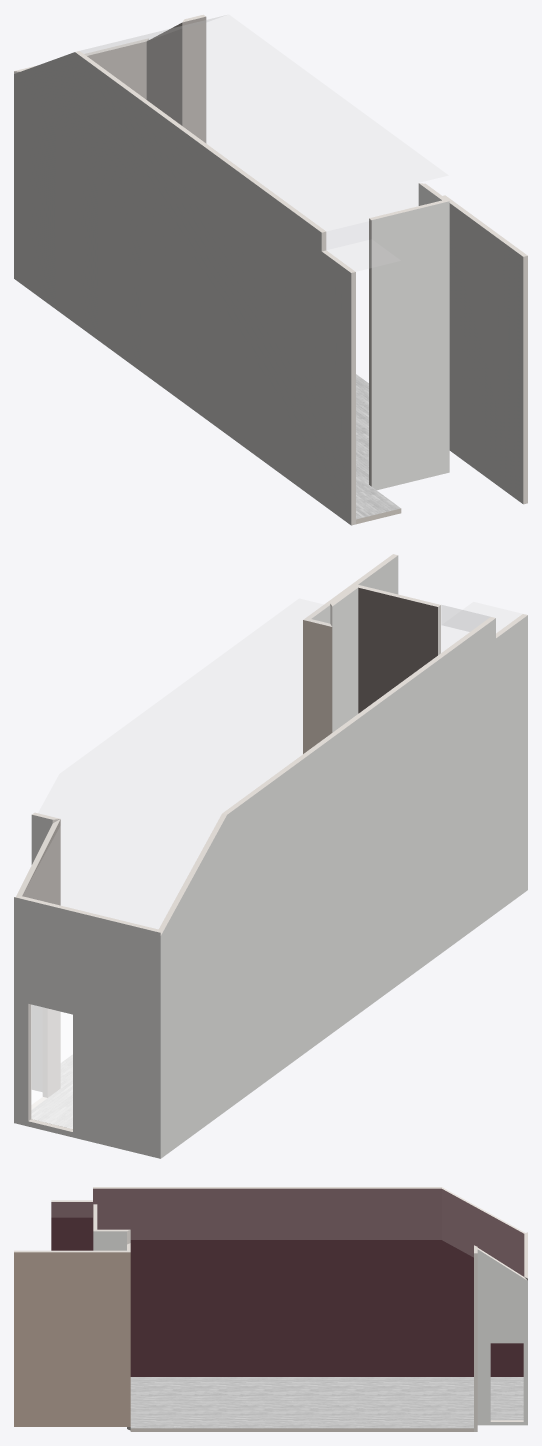
Rendered from tapai.glb.
The picture shows the model from 3 angles, top to bottom: view 1: azimuth 30°, elevation 25°; view 2: azimuth 150°, elevation 25°; view 3: azimuth 270°, elevation 25°; orthographic projection. The views are drawn at different scales.
Parts seen in each view (by area): view 1: wall_0 (×3), ceiling_Other_0 (×3), wall_3 (×2), wall_1 (×2), wall_7, wall_6, floor_Other_0, wall_2; view 2: wall_0 (×2), ceiling_Other_0 (×3), wall_2, door_0 (×2), wall_3, wall_5, wall_4, wall_7, wall_6, floor_Other_0, wall_1; view 3: wall_0 (×2), ceiling_Other_0 (×3), wall_1 (×2), floor_Other_0 (×2), wall_7, wall_6, wall_4.
Part boxes in pixels (<box>): wall_0 (×3): <box>14,51,355,525</box>; ceiling_Other_0 (×3): <box>81,15,447,270</box>; wall_3 (×2): <box>369,201,449,490</box>; wall_1 (×2): <box>449,203,527,504</box>; wall_7: <box>146,23,182,125</box>; wall_6: <box>182,16,206,143</box>; floor_Other_0: <box>356,374,400,519</box>; wall_2: <box>87,41,146,99</box>; wall_0 (×2): <box>158,614,527,1158</box>; ceiling_Other_0 (×3): <box>23,588,489,928</box>; wall_2: <box>14,897,160,1158</box>; door_0 (×2): <box>31,1005,72,1128</box>; wall_3: <box>358,587,437,713</box>; wall_5: <box>303,620,332,753</box>; wall_4: <box>332,588,358,732</box>; wall_7: <box>22,819,60,1097</box>; wall_6: <box>31,815,52,1091</box>; floor_Other_0: <box>31,1054,72,1128</box>; wall_1: <box>311,555,398,623</box>; wall_0 (×2): <box>51,1187,525,1376</box>; ceiling_Other_0 (×3): <box>52,1189,523,1275</box>; wall_1 (×2): <box>14,1250,130,1426</box>; floor_Other_0 (×2): <box>130,1377,523,1431</box>; wall_7: <box>477,1249,527,1425</box>; wall_6: <box>474,1253,477,1431</box>; wall_4: <box>93,1231,126,1250</box>.
Size of the model in its own units: 3.3 by 5.55 by 13.49.
21 materials, 1 textured.
